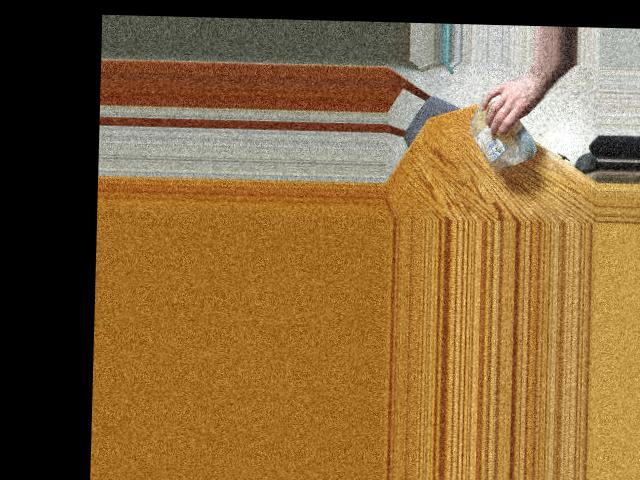cheese: (466, 89, 533, 169)
